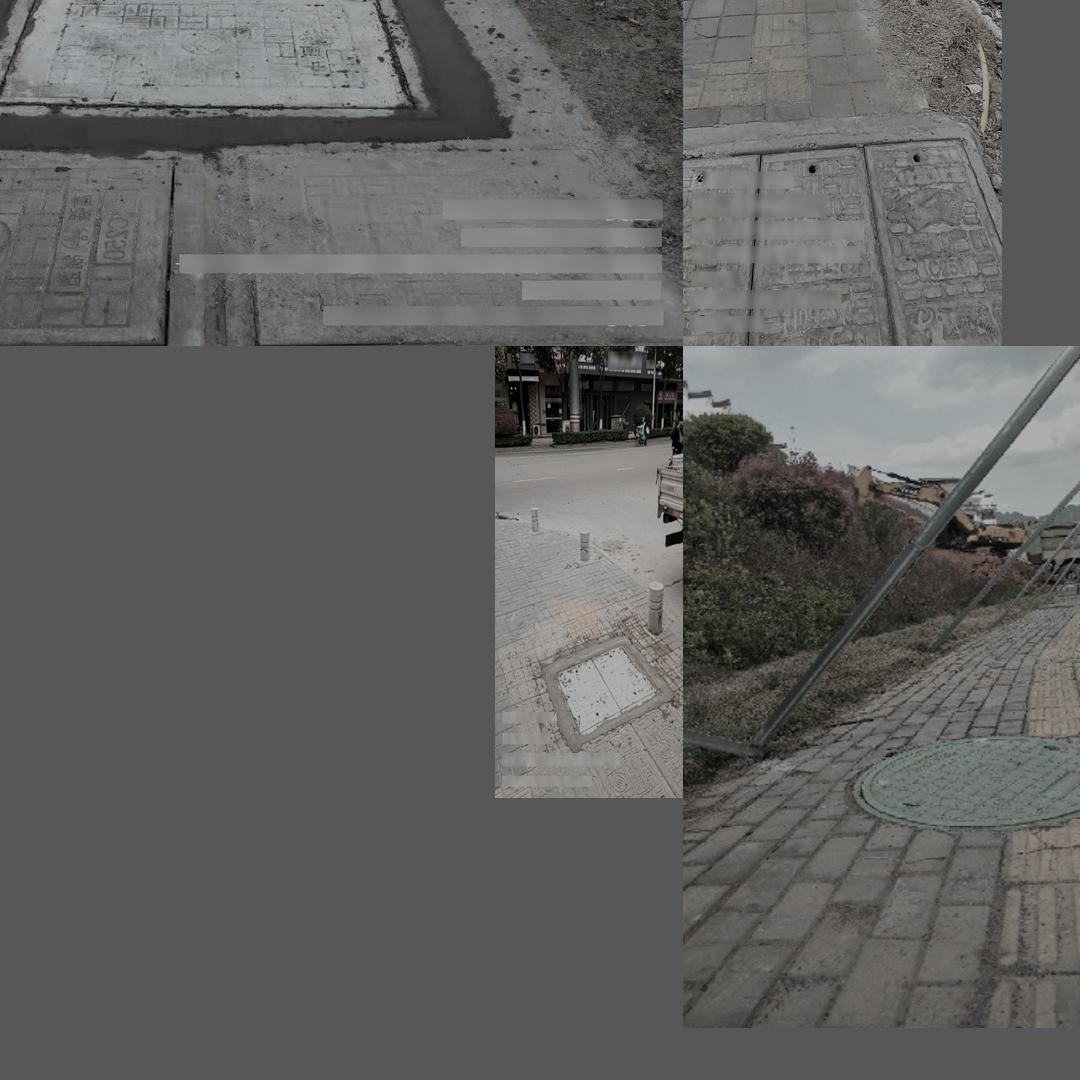good: (685, 125, 1000, 346), (0, 0, 436, 118), (852, 736, 1080, 830), (546, 642, 660, 734)
